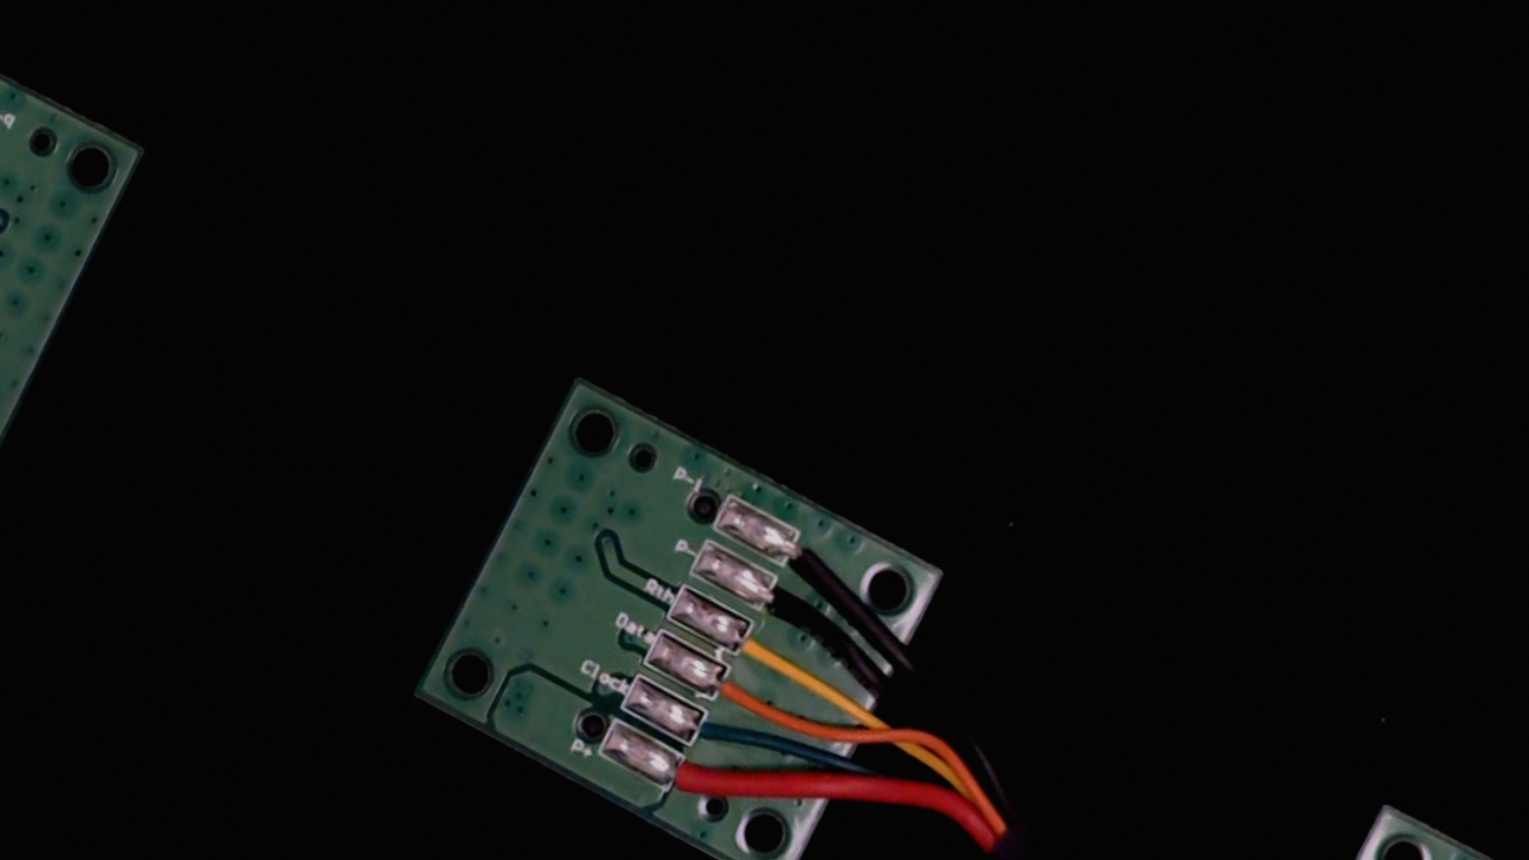Black: (739, 564, 823, 636)
Black1: (762, 520, 849, 590)
Green: (669, 698, 754, 772)
Orange: (691, 655, 787, 733)
Red: (645, 741, 739, 818)
Yellow: (717, 610, 807, 684)
